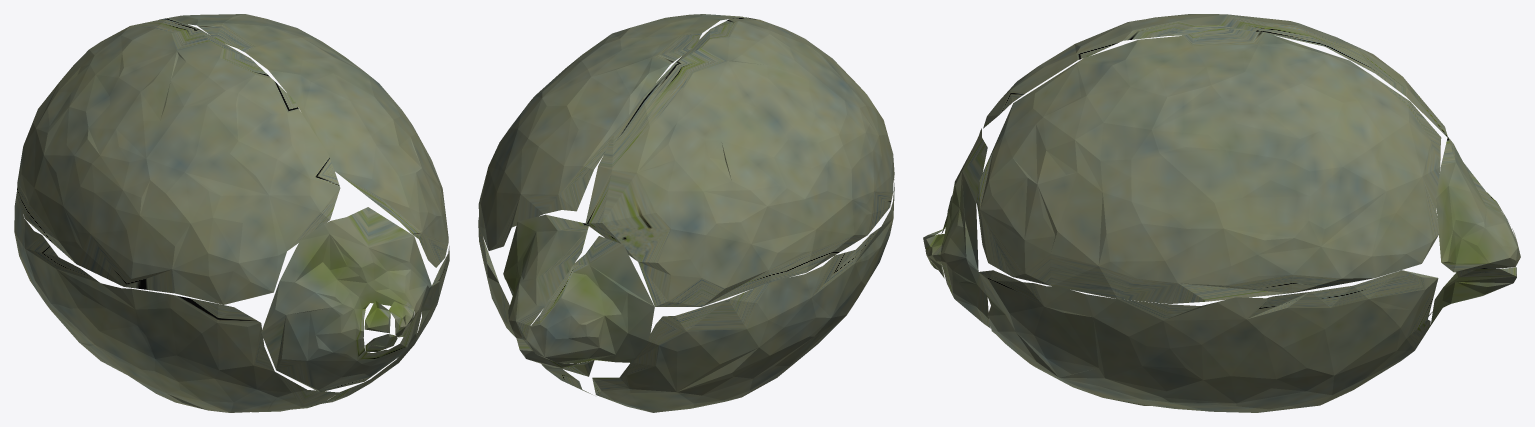
Rendered from food_produce_lemon_a06.glb.
3 views of the same model, side by side, from view 1: azimuth 30°, elevation 25°; view 2: azimuth 150°, elevation 25°; view 3: azimuth 270°, elevation 25° (orthographic). The views are drawn at different scales.
Parts seen in each view (by area): view 1: geometry_0; view 2: geometry_0; view 3: geometry_0.
Boxes of the visible parts, <box> form: geometry_0: <box>14,14,449,412</box>; geometry_0: <box>478,14,894,412</box>; geometry_0: <box>923,14,1520,412</box>.
Bounding box in the file's own units: 0.2949 × 0.2776 × 0.42.
1 material, 1 textured.
